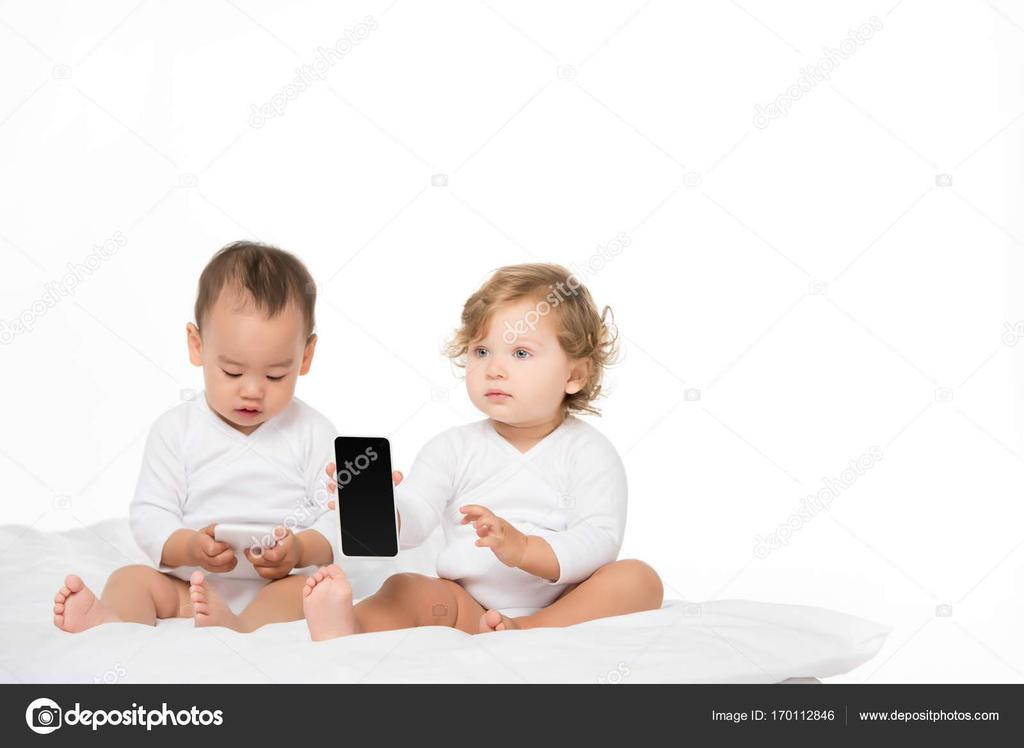child: (60, 219, 363, 642), (345, 245, 682, 623)
